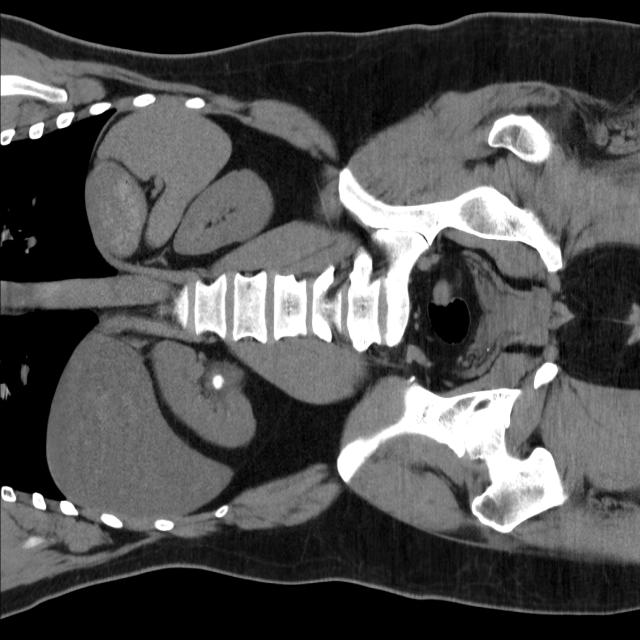kidneystone: (211, 371, 224, 390)
